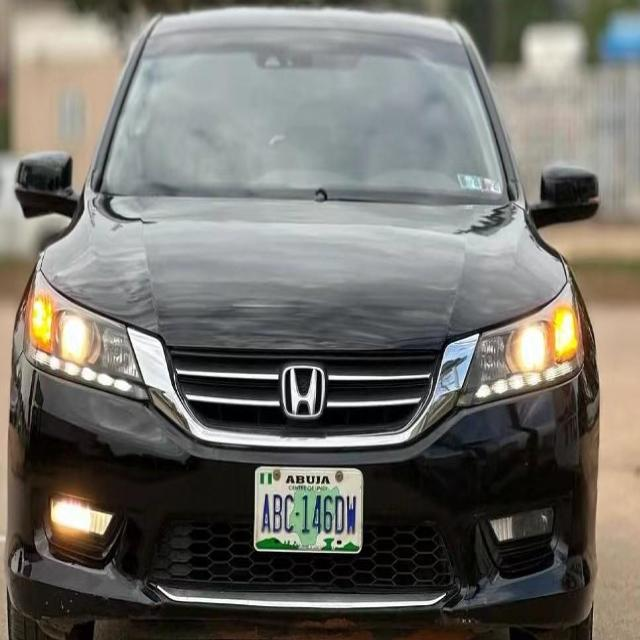Nigerian License Plate - vdataset benjamin-daria: (251, 460, 367, 562)
